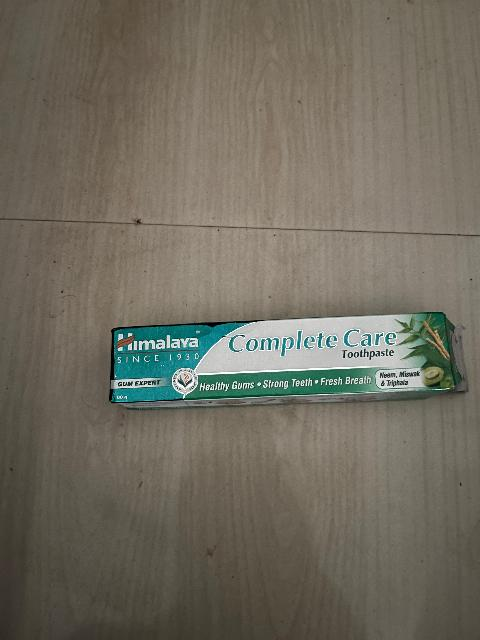himalaya toothpaste: (113, 315, 463, 399)
